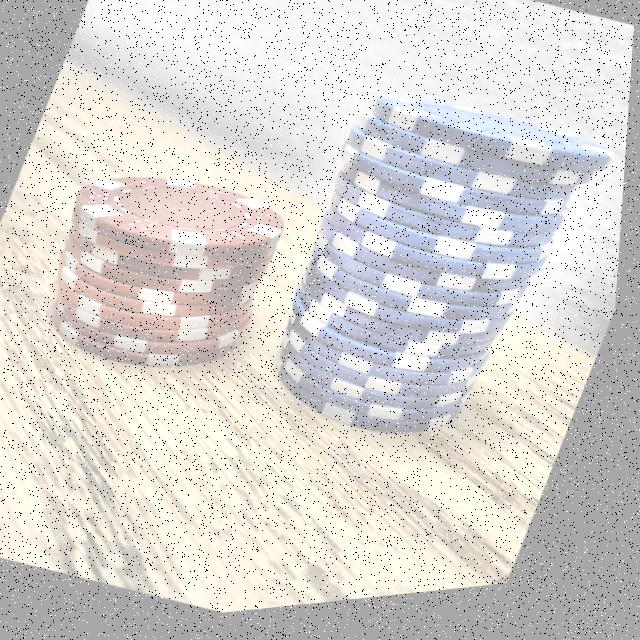Chip: (224, 58, 634, 493), (7, 113, 323, 428)
